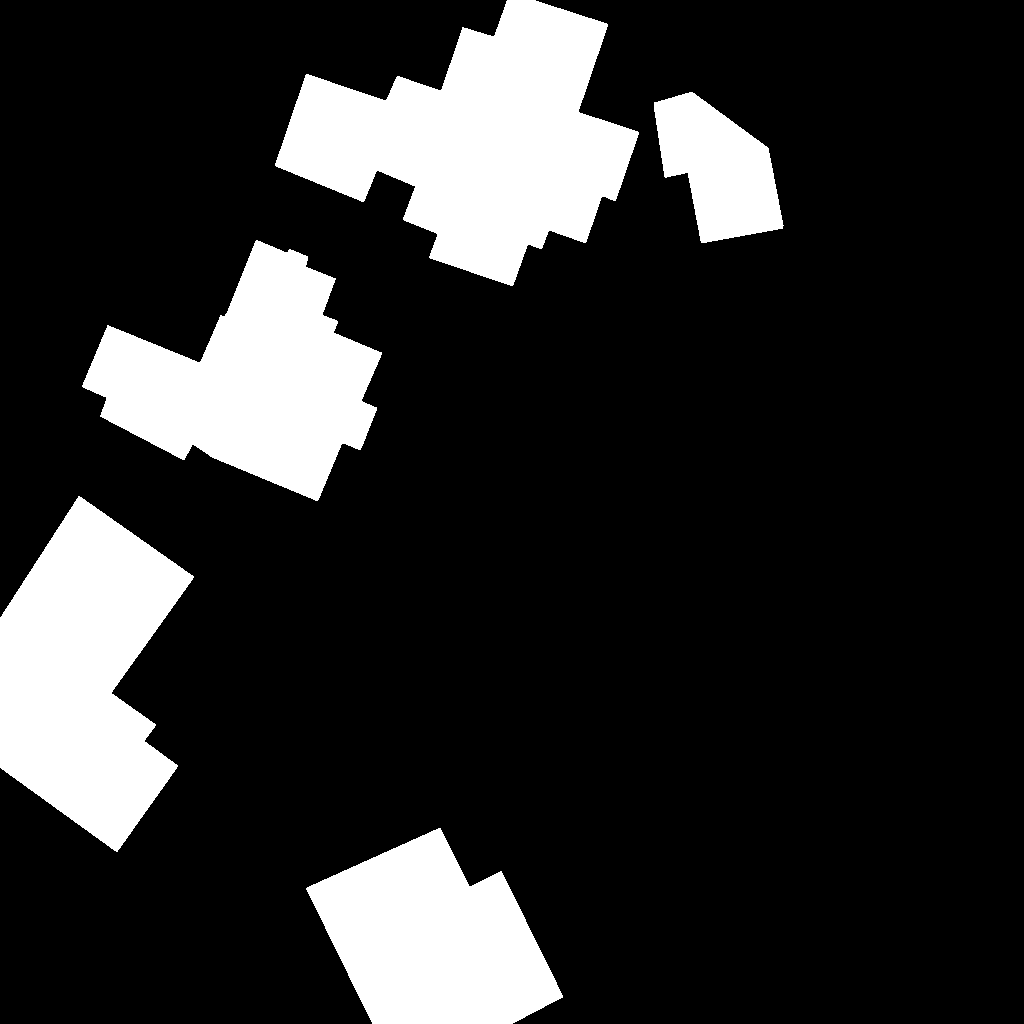building: (275, 0, 640, 287), (82, 240, 383, 502), (0, 496, 195, 853), (306, 828, 564, 1024), (654, 92, 784, 244)
